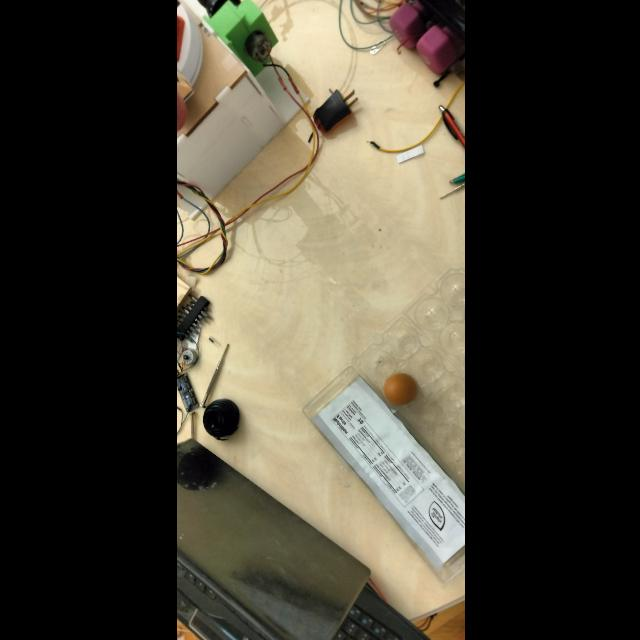Egg: (379, 368, 421, 410)
